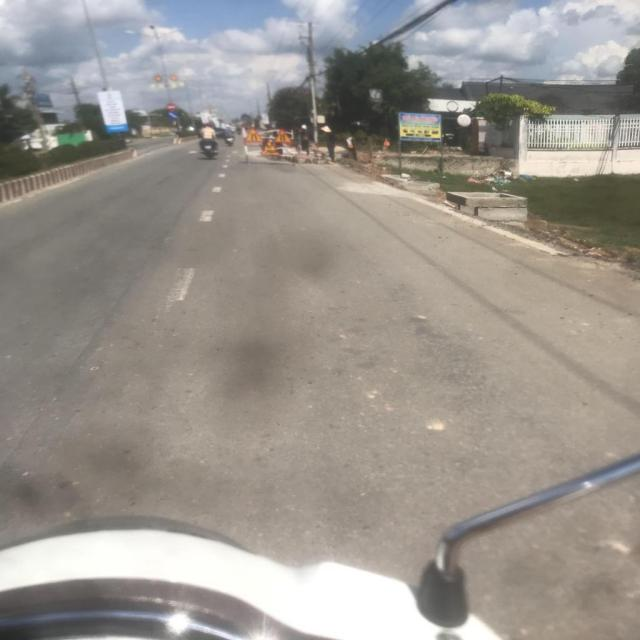cam_xe_di_nguoc_chieu: (166, 103, 176, 110)
di_cham: (261, 141, 280, 156)
huong_phai_di_vuot_chuong_ngai_vat_phai: (167, 112, 177, 120)
khac: (274, 128, 294, 144), (244, 127, 264, 142)
